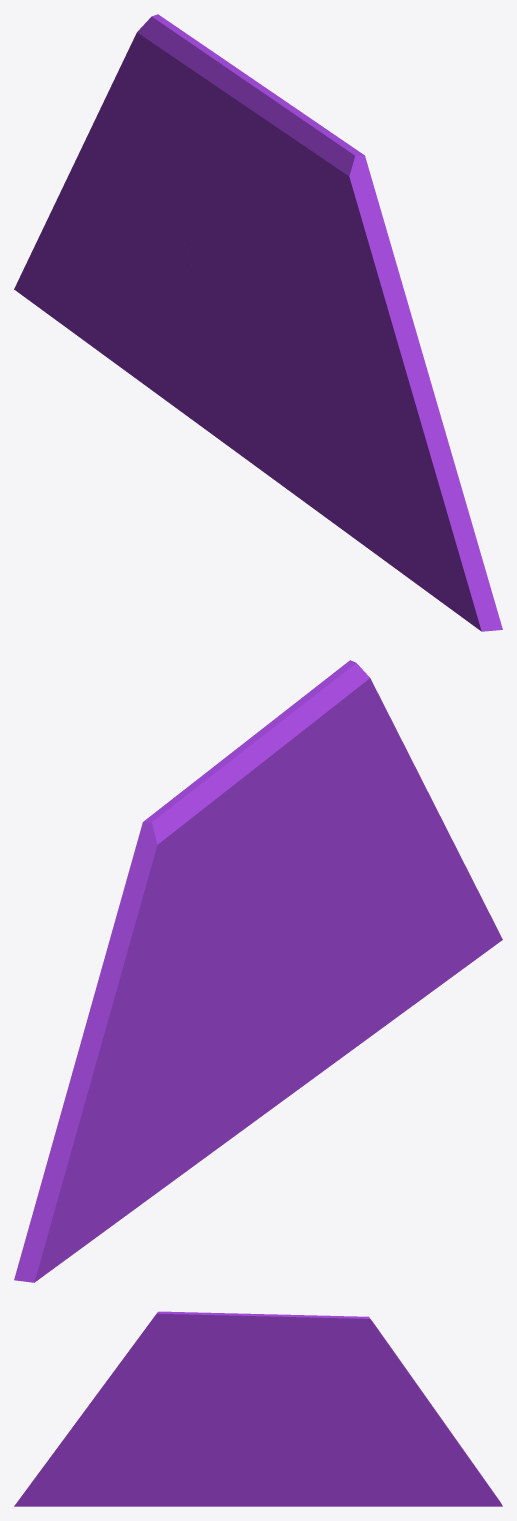
File: Window_46_6_chunks.fbx
3 views of the same model, one above another, from view 1: azimuth 30°, elevation 25°; view 2: azimuth 150°, elevation 25°; view 3: azimuth 270°, elevation 25° (orthographic). The views are drawn at different scales.
Visible parts, largest first — view 1: Window_46_6_4, Window_46_6_5, Window_46_6_9, Window_46_6_12, Window_46_6_3, Window_46_6_14, Window_46_6_11, Window_46_6_2, Window_46_6_15, Window_46_6_7, Window_46_6_8, Window_46_6_6 (+3 smaller); view 2: Window_46_6_4, Window_46_6_5, Window_46_6_12, Window_46_6_3, Window_46_6_14, Window_46_6_11, Window_46_6_2, Window_46_6_9, Window_46_6_15, Window_46_6_7, Window_46_6_8, Window_46_6_6 (+3 smaller); view 3: Window_46_6_4, Window_46_6_5, Window_46_6_3, Window_46_6_14, Window_46_6_9, Window_46_6_11, Window_46_6_2, Window_46_6_7, Window_46_6_12, Window_46_6_6, Window_46_6_15, Window_46_6_13 (+1 smaller).
Boxes of the visible parts, box(x1,y1,x2,y2) form: Window_46_6_4: box(317, 308, 502, 631); Window_46_6_5: box(186, 277, 325, 513); Window_46_6_9: box(304, 122, 414, 333); Window_46_6_12: box(14, 145, 136, 322); Window_46_6_3: box(84, 14, 211, 173); Window_46_6_14: box(60, 259, 206, 414); Window_46_6_11: box(197, 51, 316, 205); Window_46_6_2: box(171, 83, 238, 333); Window_46_6_15: box(124, 173, 213, 354); Window_46_6_7: box(240, 250, 352, 368); Window_46_6_8: box(234, 200, 339, 299); Window_46_6_6: box(320, 419, 362, 544); Window_46_6_4: box(338, 768, 502, 1026); Window_46_6_5: box(206, 917, 346, 1156); Window_46_6_12: box(14, 1005, 156, 1282); Window_46_6_3: box(83, 780, 220, 1034); Window_46_6_14: box(80, 1067, 226, 1248); Window_46_6_11: box(197, 697, 311, 874); Window_46_6_2: box(192, 803, 259, 1034); Window_46_6_9: box(302, 660, 415, 814); Window_46_6_15: box(144, 968, 234, 1072); Window_46_6_7: box(260, 804, 373, 939); Window_46_6_8: box(255, 790, 360, 886); Window_46_6_6: box(341, 956, 383, 1057); Window_46_6_4: box(14, 1383, 179, 1506); Window_46_6_5: box(198, 1419, 322, 1506); Window_46_6_3: box(306, 1315, 431, 1405); Window_46_6_14: box(301, 1444, 461, 1506); Window_46_6_9: box(105, 1311, 214, 1387); Window_46_6_11: box(205, 1312, 315, 1380); Window_46_6_2: box(261, 1330, 339, 1451); Window_46_6_7: box(143, 1385, 274, 1435); Window_46_6_12: box(402, 1401, 502, 1506); Window_46_6_6: box(123, 1431, 204, 1506); Window_46_6_15: box(293, 1397, 381, 1466); Window_46_6_13: box(371, 1401, 435, 1458).
Size of the model in its own units: 27.2 by 544 by 1248.
